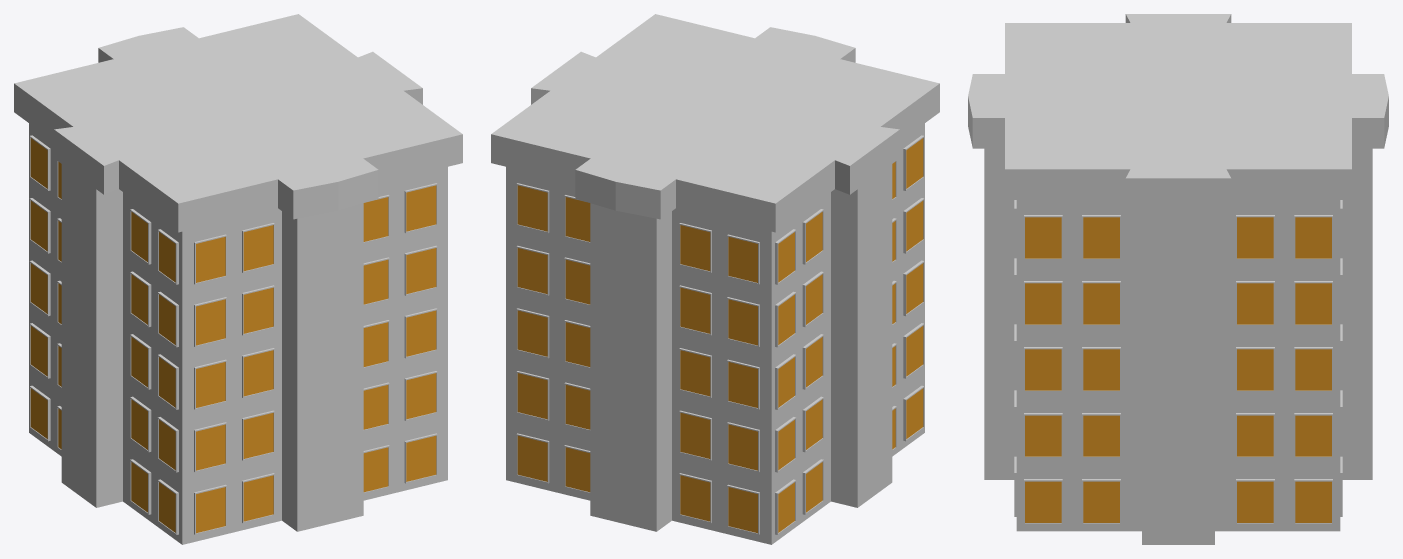
File: Buildings-base1-variant.fbx
3 views of the same model, side by side, from view 1: azimuth 30°, elevation 25°; view 2: azimuth 150°, elevation 25°; view 3: azimuth 270°, elevation 25° (orthographic). The views are drawn at different scales.
Visible parts, largest first — view 1: BuildingBase; view 2: BuildingBase; view 3: BuildingBase.
Part boxes in pixels (x1,y1,x2,y2): BuildingBase: (14, 14, 462, 544); BuildingBase: (491, 14, 939, 544); BuildingBase: (968, 14, 1388, 544).
Bounding box in the file's own units: 48 × 50 × 52.
